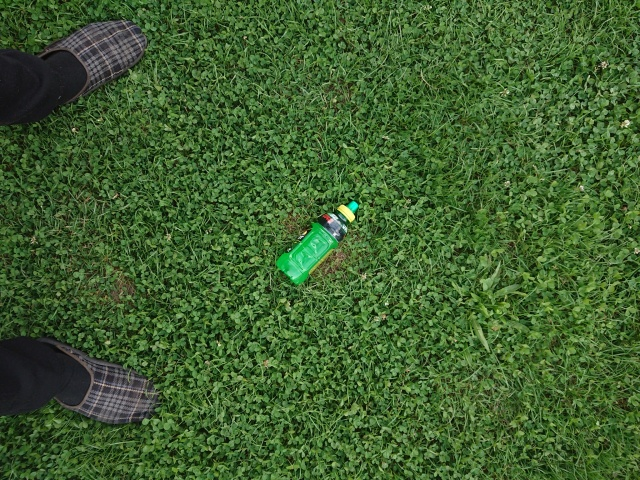Vindi Iso Sport Lemon-Grapefruit 500mL: (272, 198, 362, 289)
